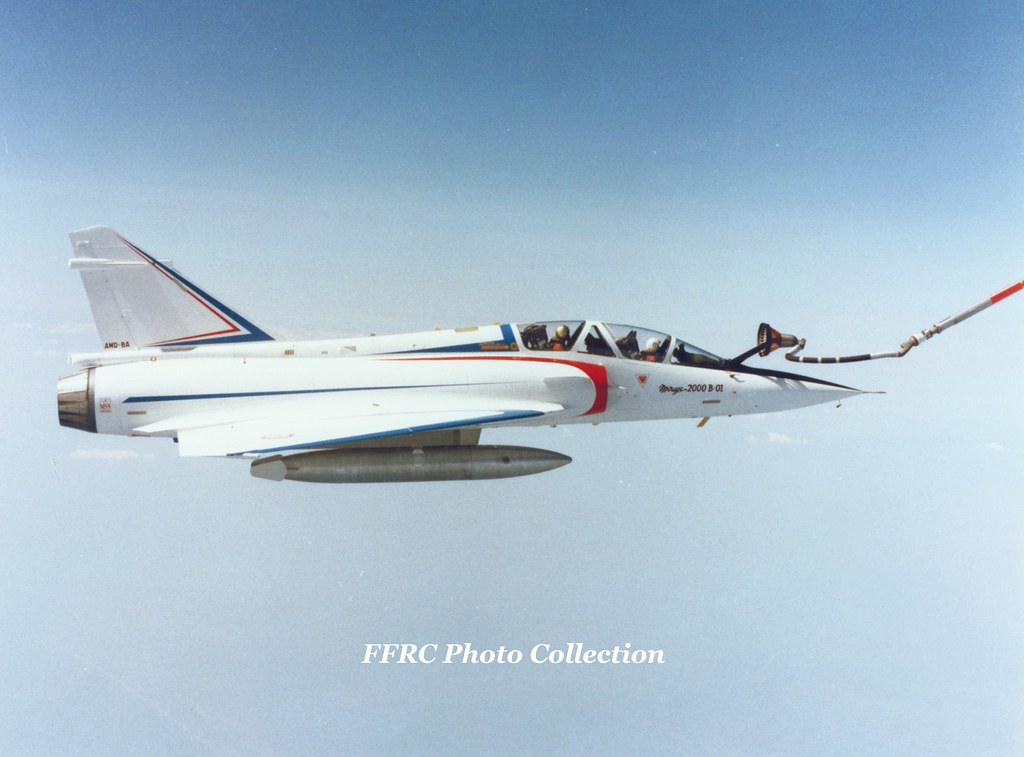Mirage2000: (56, 224, 887, 484)
